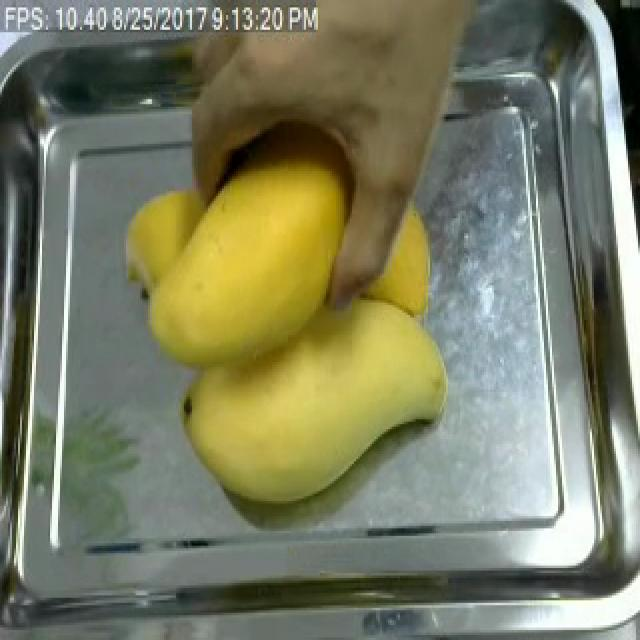fruit: (168, 0, 512, 216), (168, 280, 464, 516), (116, 152, 364, 390)
